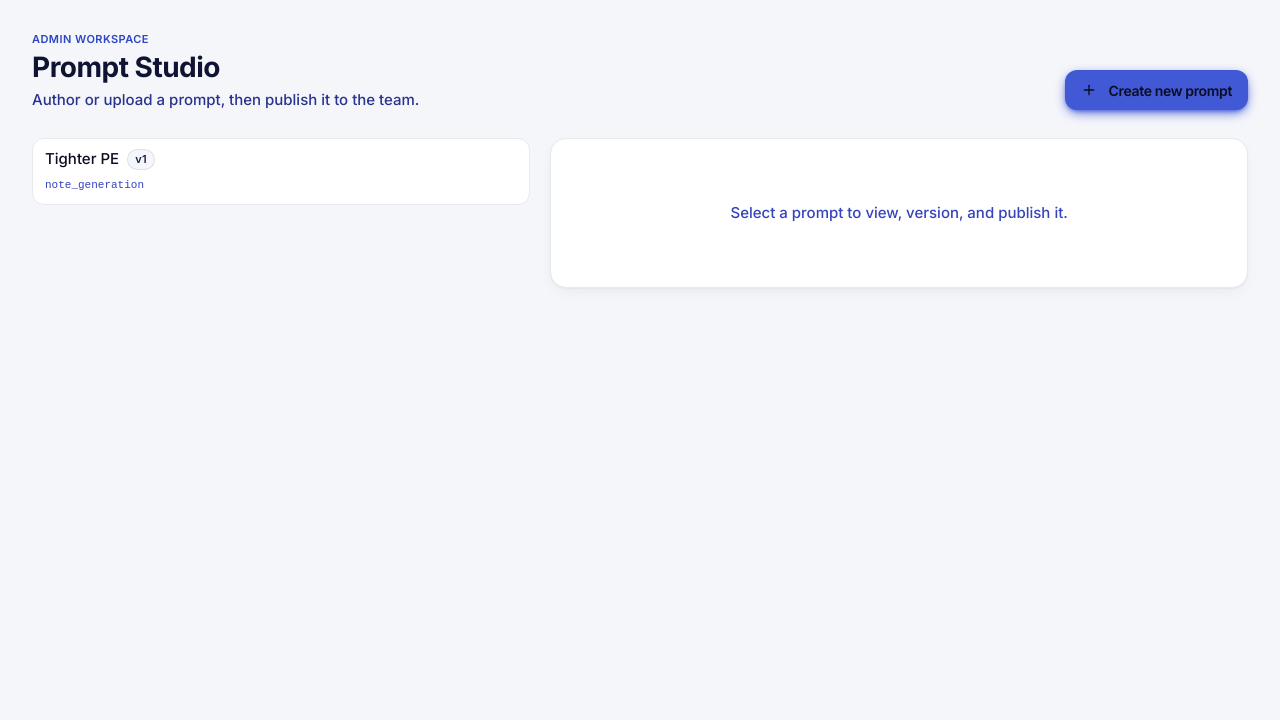
Test: PromptStudioPage › publishes the selected prompt's latest version to ALL
Later steps or results of the test are not shown.
Click the button with test id "prompt-row-p1" at (82, 159), box [32,138,530,204]
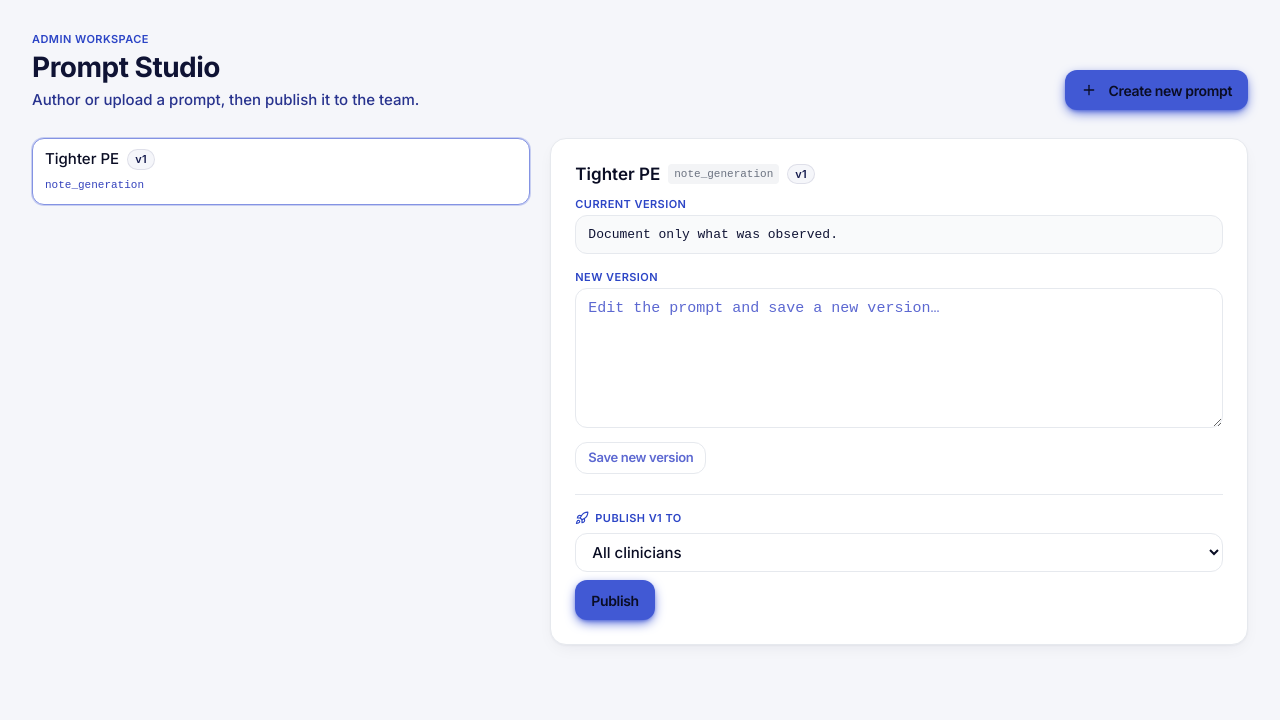
Expected: the button with test id "publish-button" is shown, [575,580,655,620]
